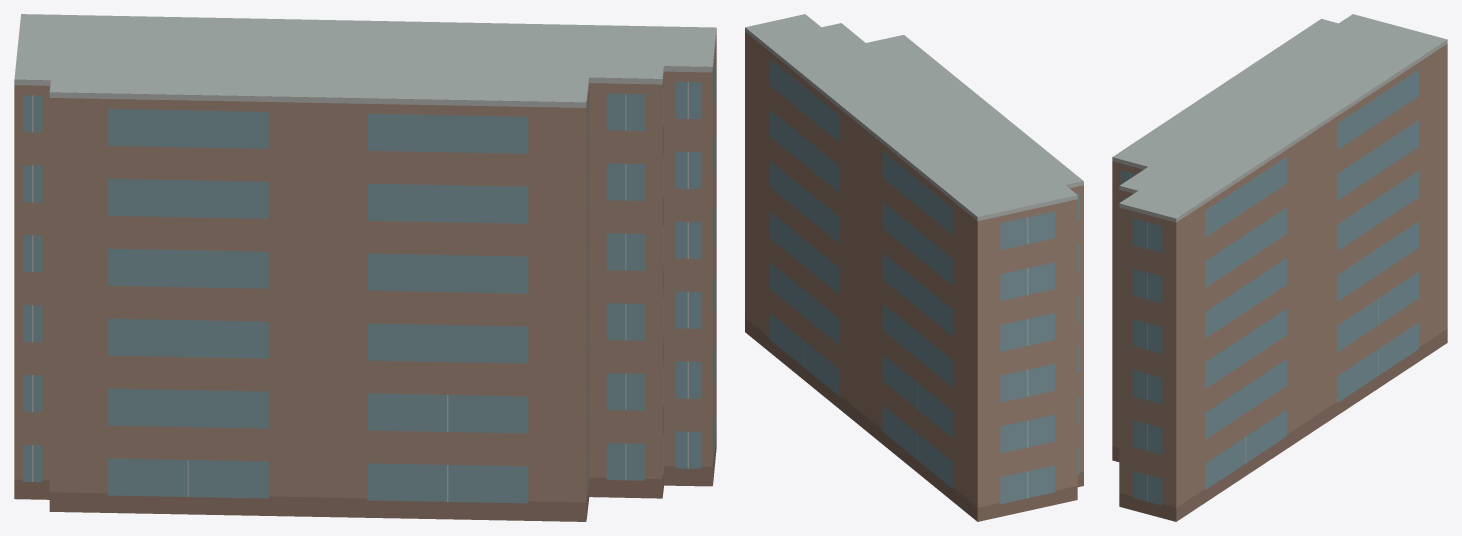
Rendered from survey-upis-32822006.glb.
3 views of the same model, side by side, from view 1: azimuth 30°, elevation 25°; view 2: azimuth 150°, elevation 25°; view 3: azimuth 270°, elevation 25° (orthographic). The views are drawn at different scales.
Visible parts, largest first — view 1: survey-upis-32822006.tmp; view 2: survey-upis-32822006.tmp; view 3: survey-upis-32822006.tmp.
Part boxes in pixels (left/top/right/bottom): survey-upis-32822006.tmp: left=14, top=14, right=716, bottom=521; survey-upis-32822006.tmp: left=745, top=14, right=1083, bottom=521; survey-upis-32822006.tmp: left=1112, top=14, right=1447, bottom=521.
Bounding box in the file's own units: 26.49 × 18.3 × 18.34.
